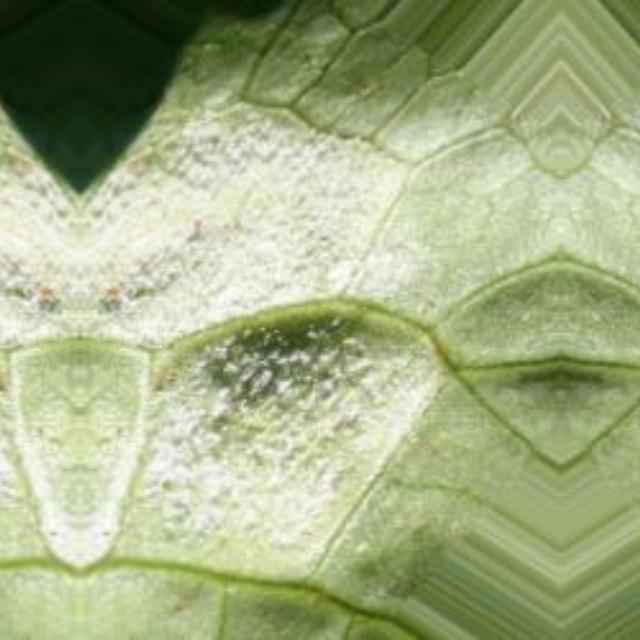Powdery_mildew: (79, 120, 425, 344), (92, 422, 384, 640), (0, 120, 79, 343), (0, 422, 66, 640)
